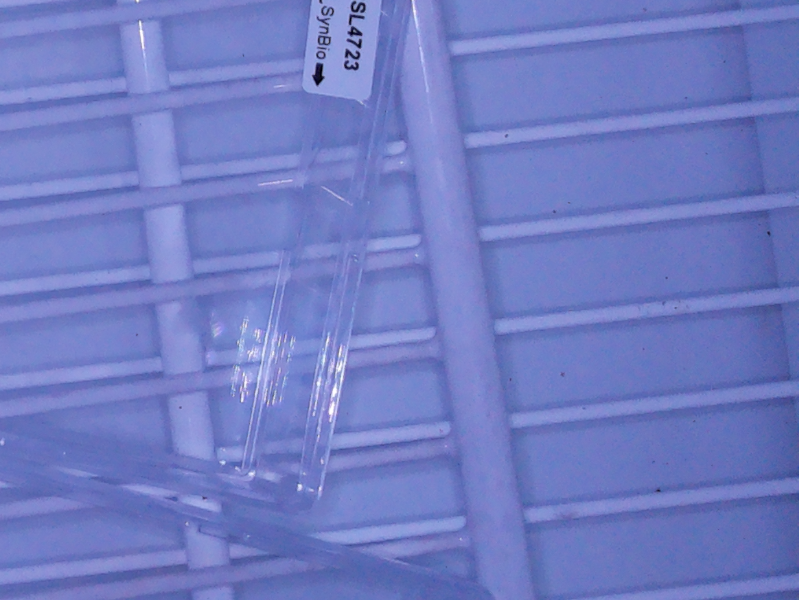plate: (1, 1, 413, 513), (1, 461, 489, 600)
